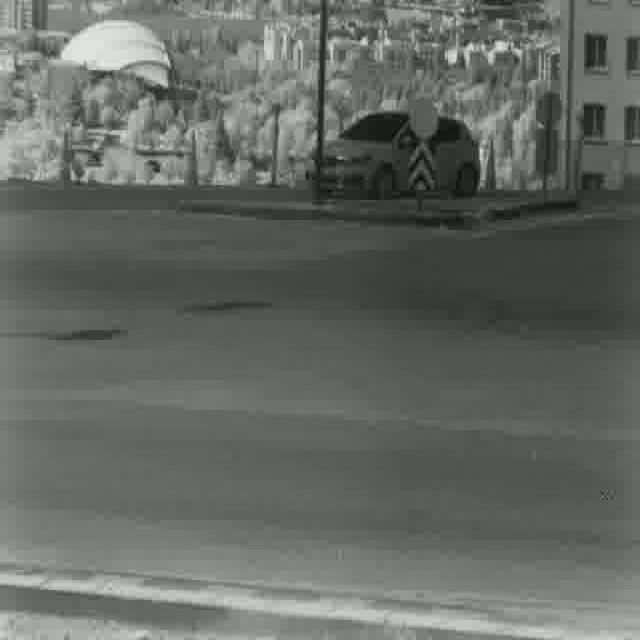Car: (311, 112, 477, 197)
